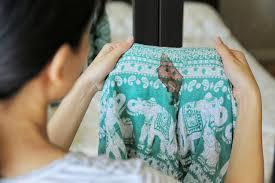blood: (157, 53, 183, 97)
